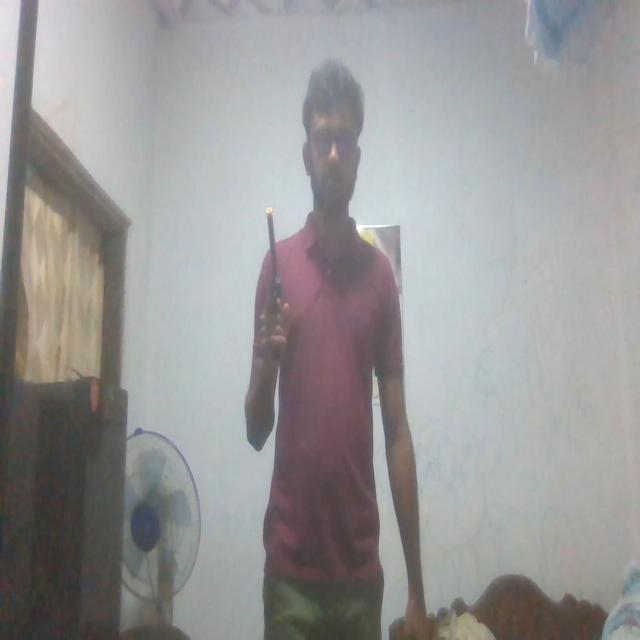Gun_Holder: (255, 212, 298, 350)
Person: (248, 57, 426, 640)
